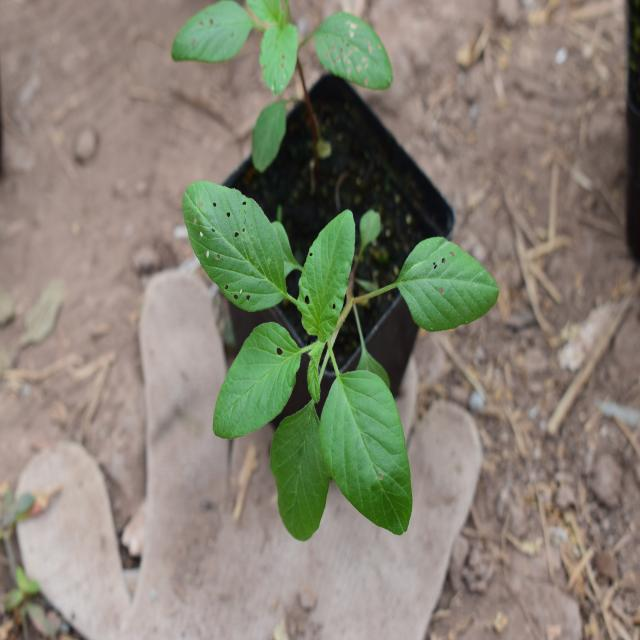pigweed: (183, 193, 492, 538)
